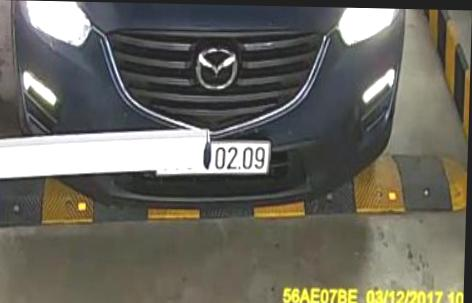License_Plate: (150, 128, 279, 184)
